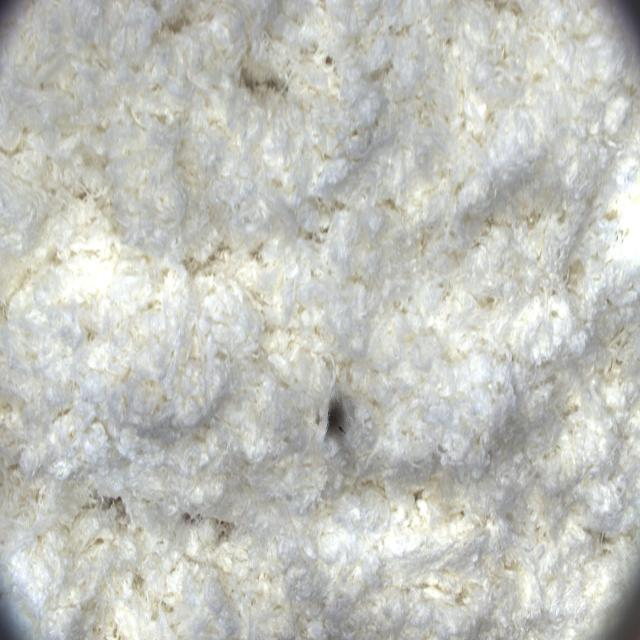dust: (303, 373, 375, 462)
